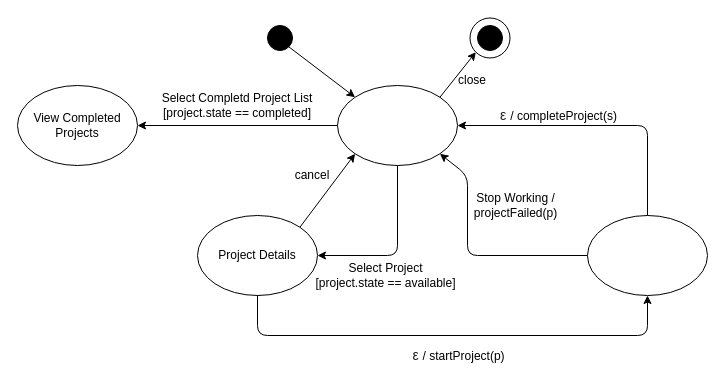
Some shapes in this 725 by 382 pixel diagram are drawn without their labels. The box of each missing label's shape, as (x1, y1, x2, y2) in pixels:
Main Project View: (336, 84, 458, 166)
Working on Project: (586, 214, 708, 296)
